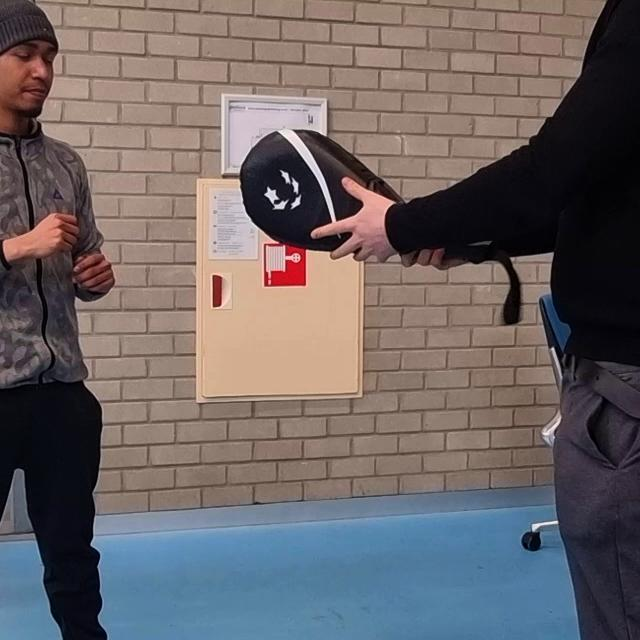paddle: (237, 121, 416, 259)
